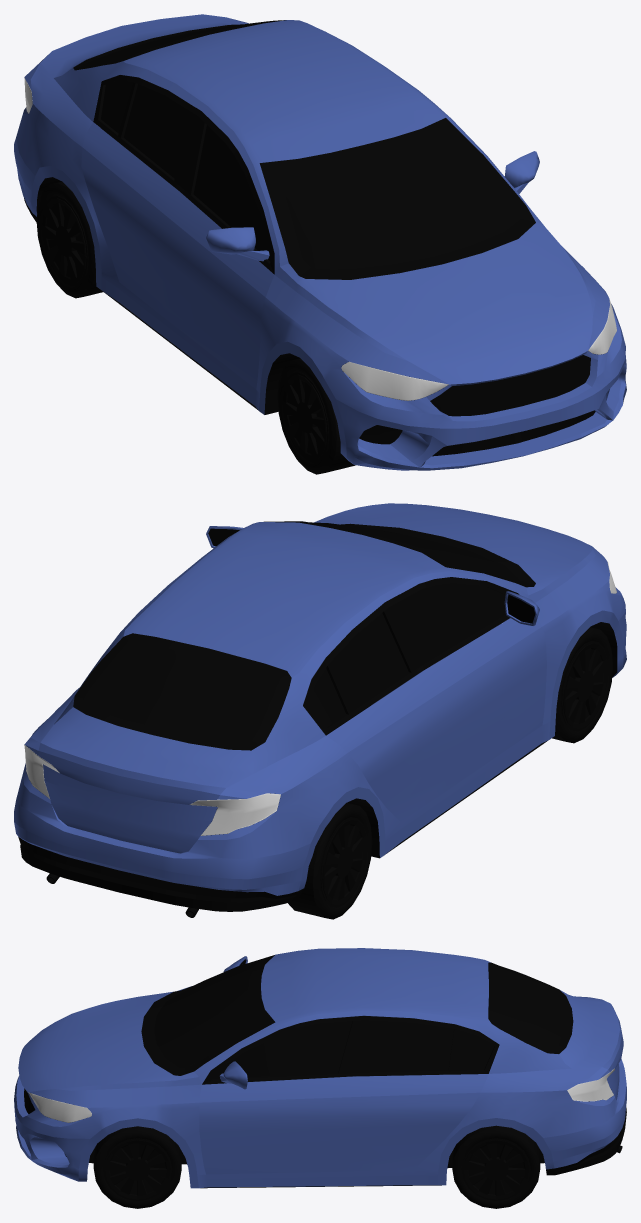
File: Egea.fbx
3 views of the same model, one above another, from view 1: azimuth 30°, elevation 25°; view 2: azimuth 150°, elevation 25°; view 3: azimuth 270°, elevation 25° (orthographic). The views are drawn at different scales.
Parts seen in each view (by area): view 1: group1_polySurface6, pCylinder2, pCylinder1; view 2: group1_polySurface6, pCylinder1, pCylinder2; view 3: group1_polySurface6, pCylinder4, pCylinder3.
Part boxes in pixels (<box>): group1_polySurface6: <box>14,14,626,470</box>; pCylinder2: <box>277,358,355,474</box>; pCylinder1: <box>36,181,102,298</box>; group1_polySurface6: <box>14,503,626,917</box>; pCylinder1: <box>288,802,372,919</box>; pCylinder2: <box>552,627,613,743</box>; group1_polySurface6: <box>14,948,626,1188</box>; pCylinder4: <box>452,1125,540,1208</box>; pCylinder3: <box>93,1126,181,1208</box>.
Bounding box in the file's own units: 20.07 × 14.24 × 43.07.
